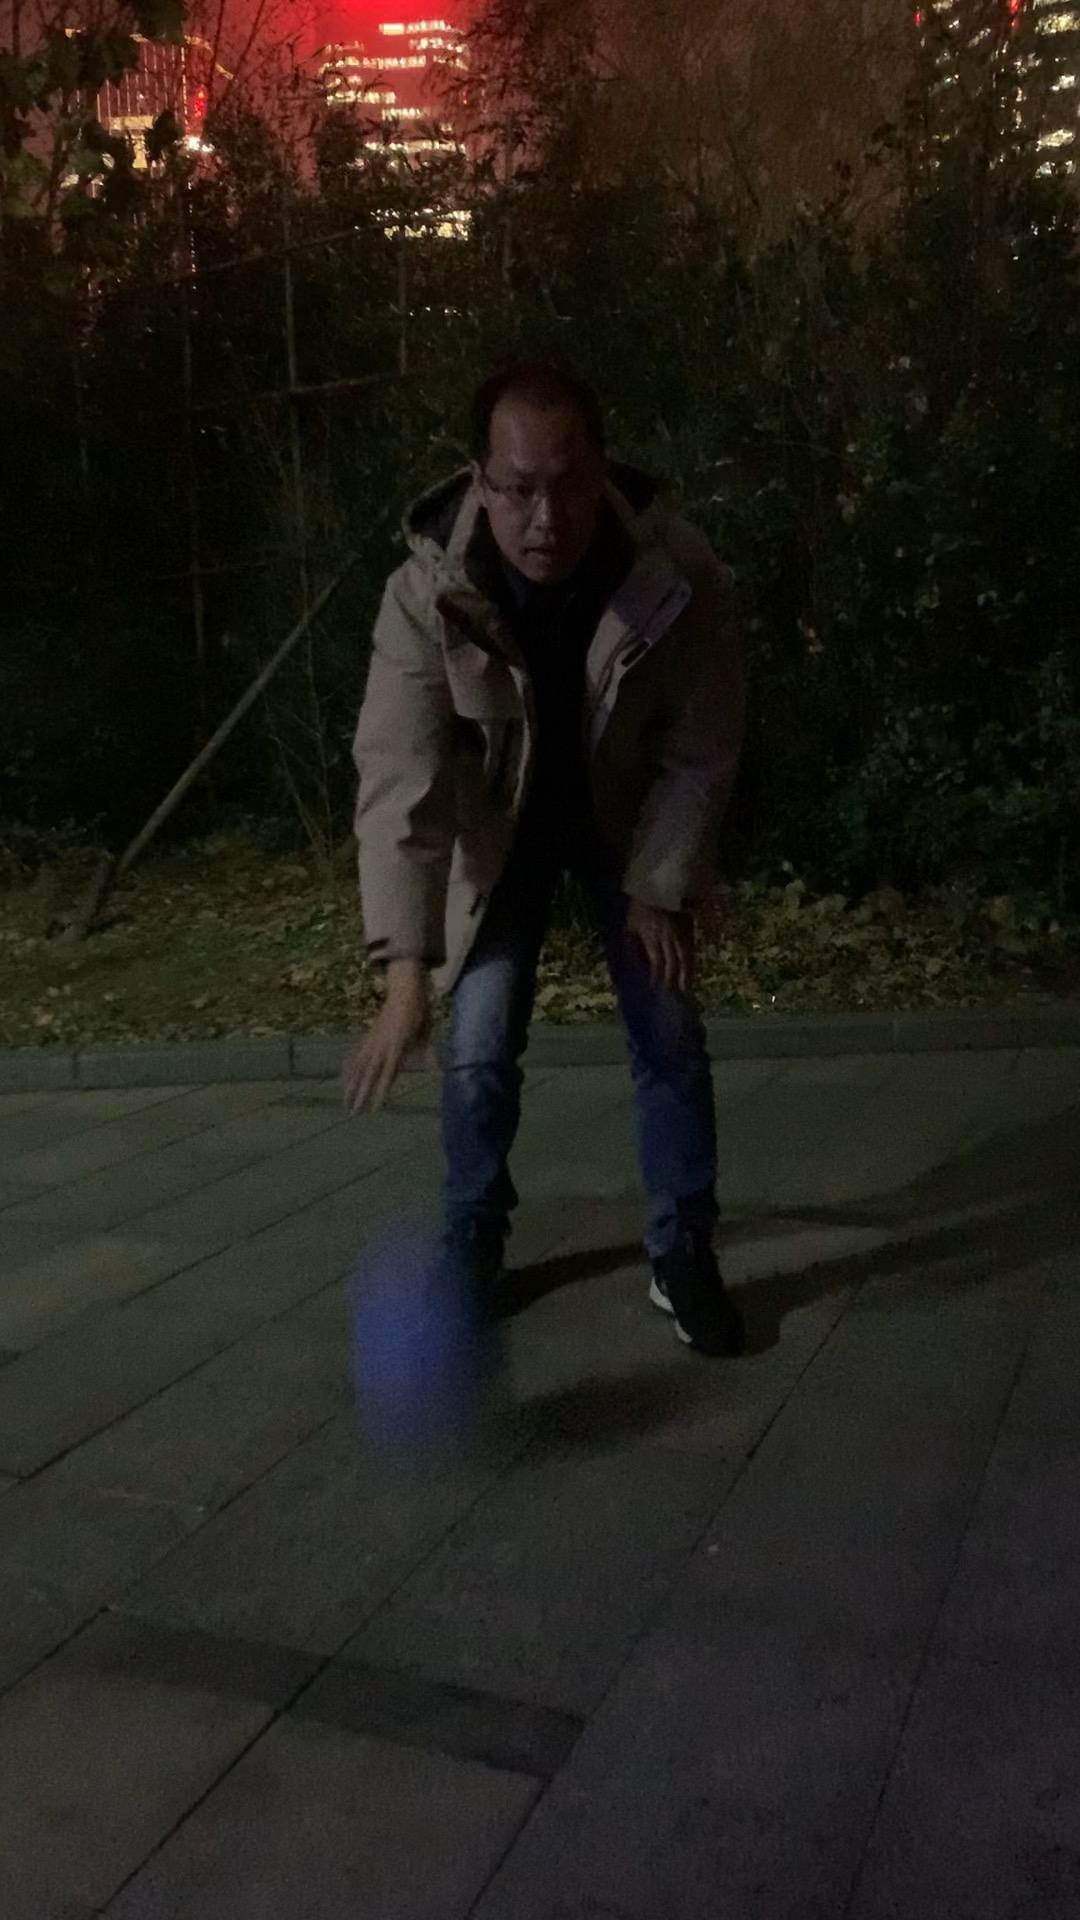ball: (344, 1263, 512, 1419)
